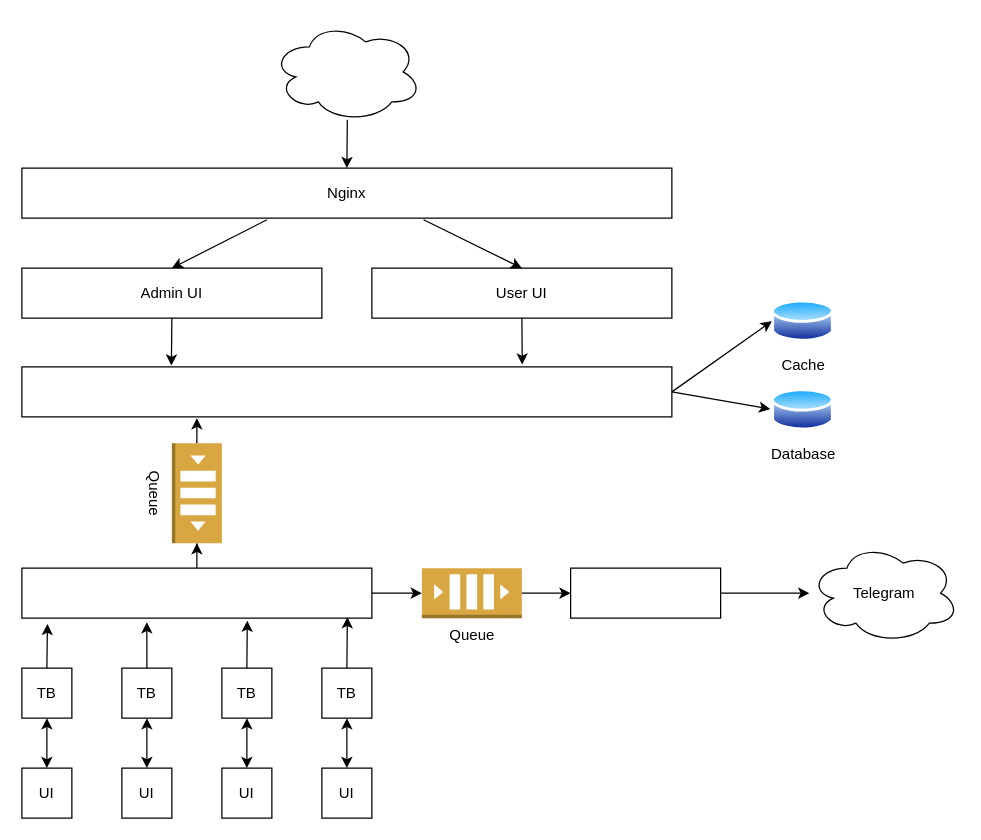
Some shapes in this 981 by 840 pixel diagram are drawn without their labels. Here are the shapes that lost their labels. From the top down, the box of each, then its label:
(271, 21, 422, 122): Web
(21, 366, 672, 417): Backend
(21, 567, 372, 618): TBotController
(569, 567, 721, 618): TBotFactory
